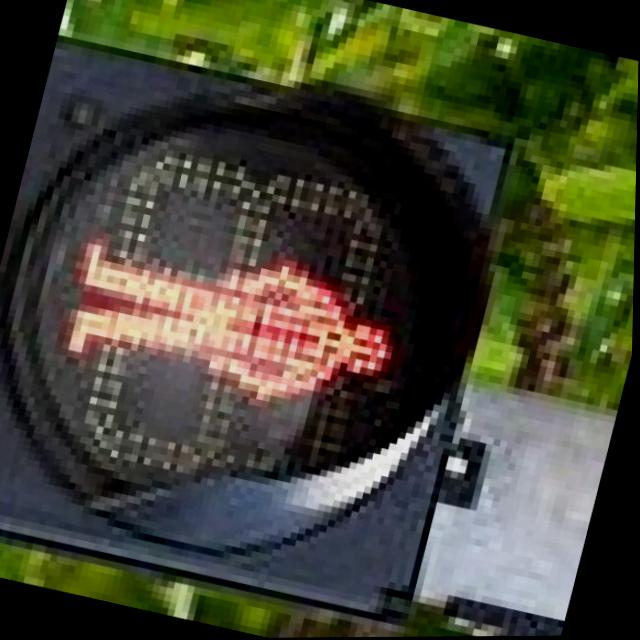red_light: (34, 184, 450, 454)
